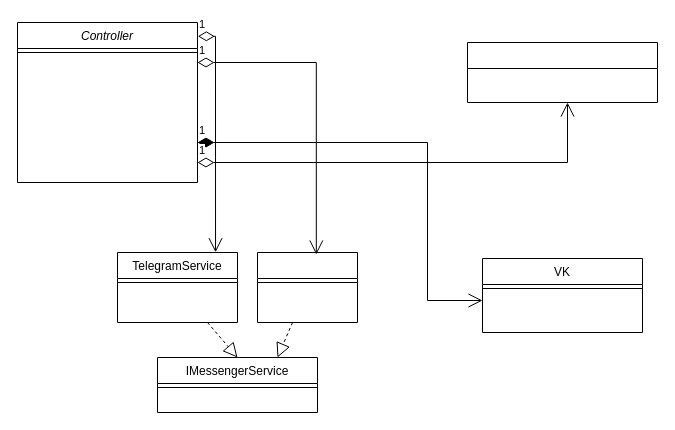
Some shapes in this 675 by 430 pixel diagram are drawn without their labels. The centre of each missing label's shape, as x and y in pixels:
"ApplicationContext" belongs at pixel 562 72.
"WhatsAppService" belongs at pixel 307 287.
